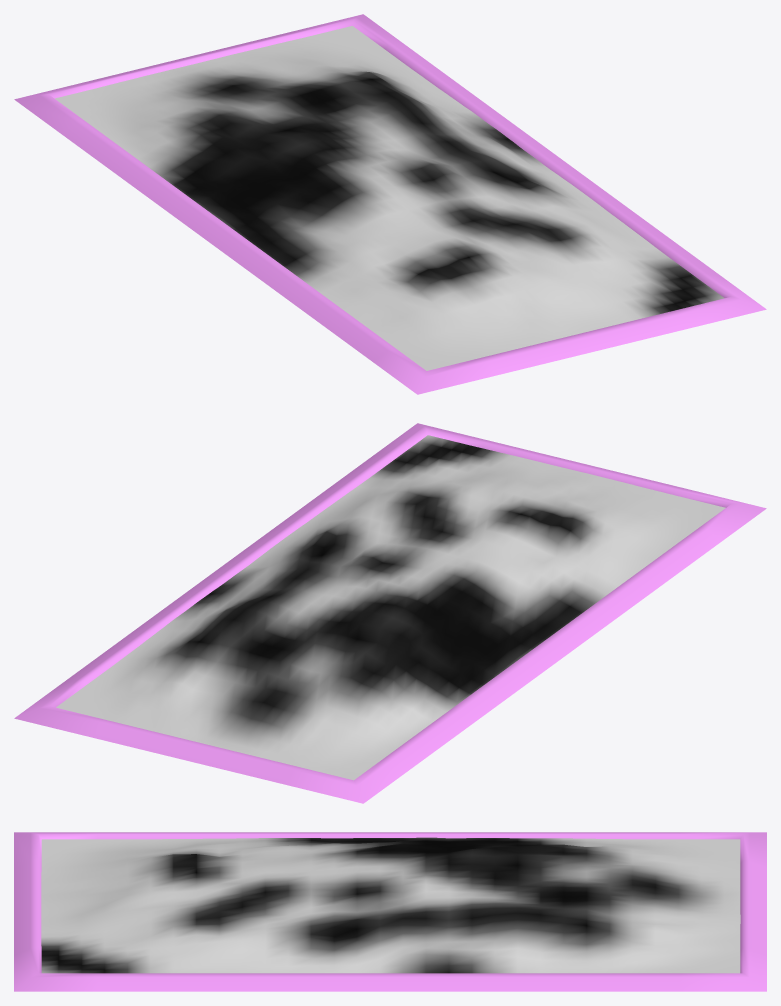
The model's file is SurfaceEffectsTerrain.fbx.
3 views of the same model, one above another, from view 1: azimuth 30°, elevation 25°; view 2: azimuth 150°, elevation 25°; view 3: azimuth 270°, elevation 25° (orthographic). The views are drawn at different scales.
Visible parts, largest first — view 1: Terrain, TerrainBorder; view 2: Terrain, TerrainBorder; view 3: Terrain, TerrainBorder.
Boxes of the visible parts, box(x1,y1,x2,y2) form: Terrain: box(54, 26, 724, 370); TerrainBorder: box(14, 14, 766, 394); Terrain: box(56, 435, 725, 780); TerrainBorder: box(14, 423, 766, 803); Terrain: box(41, 837, 740, 973); TerrainBorder: box(14, 832, 766, 991).
Size of the model in its own units: 10 by 1.09 by 20.
